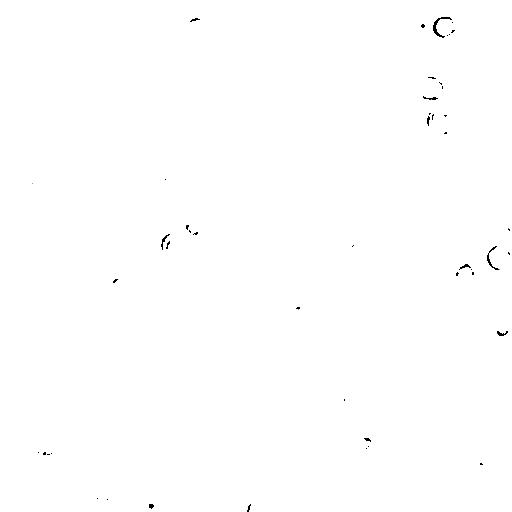micro-algae: (118, 26, 251, 163), (337, 299, 435, 394), (77, 249, 131, 305), (117, 415, 171, 469), (369, 51, 421, 105), (168, 419, 216, 462), (85, 1, 123, 41), (387, 283, 421, 317), (463, 449, 499, 481), (425, 106, 459, 136), (284, 297, 314, 328), (158, 229, 186, 262), (413, 75, 447, 102), (279, 431, 307, 463), (143, 238, 173, 267), (135, 487, 169, 511), (150, 163, 177, 191), (485, 245, 511, 270), (190, 47, 217, 71), (26, 160, 50, 187), (432, 15, 459, 39), (80, 465, 105, 490), (145, 397, 167, 425), (97, 60, 121, 85), (338, 267, 363, 291), (409, 11, 432, 37), (426, 261, 451, 284), (489, 219, 511, 245), (36, 436, 61, 457), (273, 455, 296, 477), (15, 27, 37, 49), (185, 17, 206, 37), (59, 131, 79, 151), (456, 263, 474, 285), (77, 363, 99, 380), (183, 219, 206, 235), (159, 277, 177, 296), (492, 318, 510, 337), (349, 240, 366, 260), (357, 255, 377, 272), (94, 495, 114, 511), (77, 235, 95, 251), (112, 276, 128, 293), (343, 393, 358, 410), (356, 436, 373, 451), (158, 495, 173, 511), (246, 498, 264, 511), (1, 241, 9, 266)
